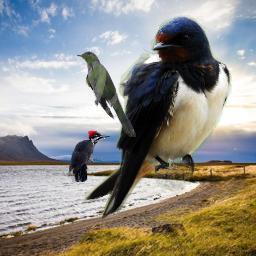Cuckoo: (77, 51, 138, 137)
Swallow: (84, 15, 232, 223)
Woodpecker: (67, 130, 111, 182)
